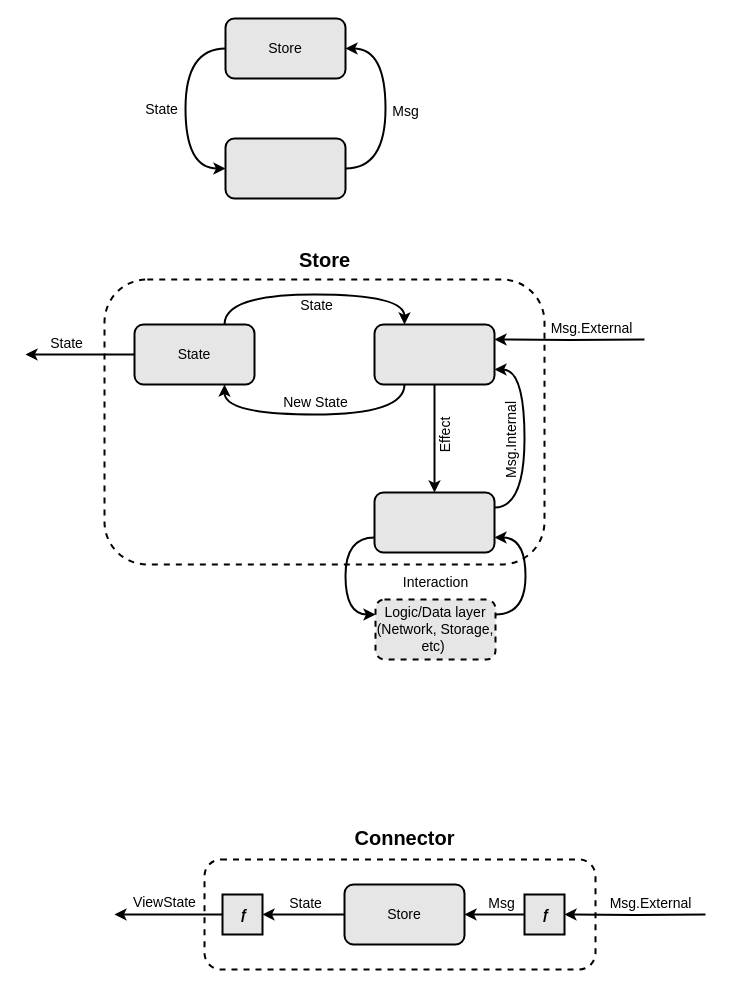
The diagram is 731 pixels wide and 987 high, and some of its shapes have lost their labels. The shapes that lost their labels are listed below. From the top down, each one's box as (x1, y1, x2, y2) in pixels, then its label:
(224, 137, 346, 199): View
(373, 323, 495, 385): Update
(373, 491, 495, 553): EffectHandler
